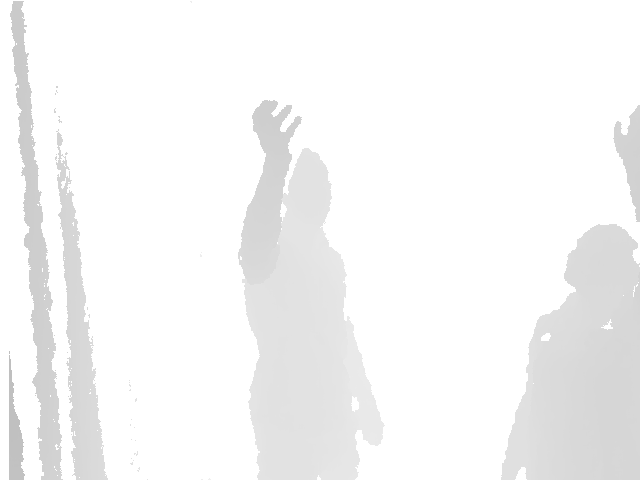hand: (251, 98, 303, 160), (612, 101, 640, 161)
head: (562, 222, 640, 304), (283, 149, 333, 225)
person: (235, 99, 386, 480), (498, 101, 640, 480)
